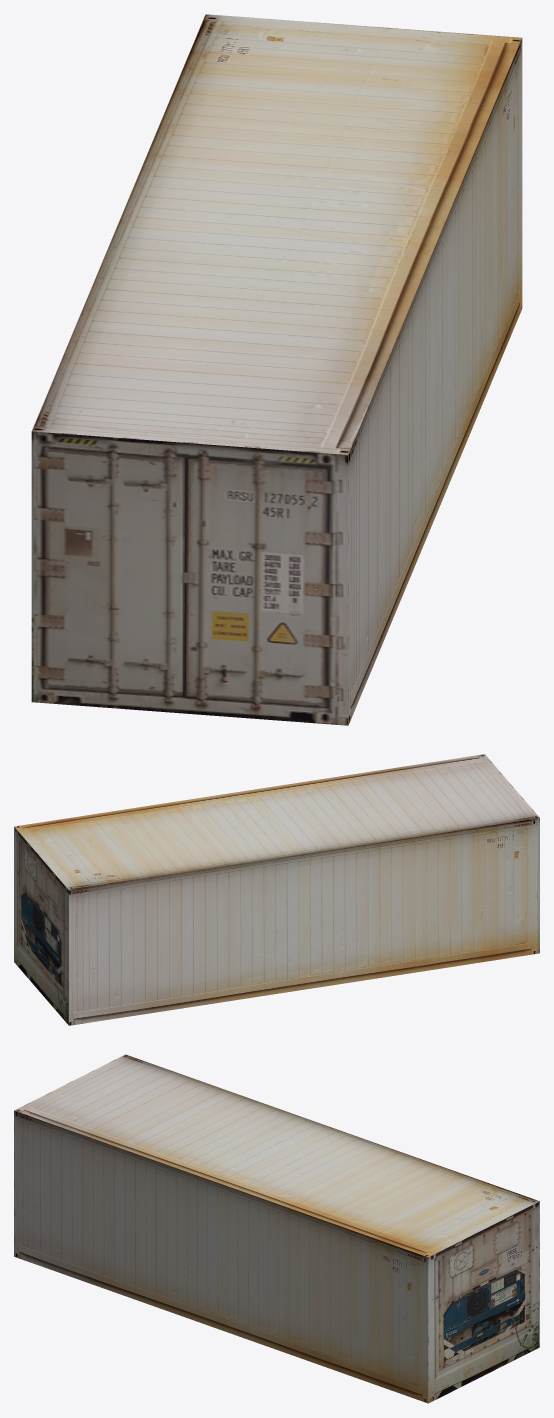
File: container_with_cooler_prop.glb
3 views of the same model, one above another, from view 1: azimuth 30°, elevation 25°; view 2: azimuth 150°, elevation 25°; view 3: azimuth 270°, elevation 25° (orthographic). The views are drawn at different scales.
Visible parts, largest first — view 1: Box001; view 2: Box001; view 3: Box001.
Part boxes in pixels (box(x1,y1,x2,y2)): Box001: box(31, 14, 522, 725); Box001: box(14, 754, 539, 1025); Box001: box(14, 1054, 539, 1403).
Bounding box in the file's own units: 8.41 × 2.82 × 9.2.
1 material, 1 textured.
